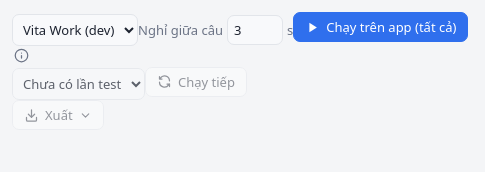
Test: AppRunPanel › does not save an invalid or unchanged pause
The width and height of the screenshot is (485, 172).
Later steps or results of the test are not shown.
Replace the text in the number field named "Nghỉ giữa các câu (giây)" with "-1" at (255, 30), box [227,15,283,45]
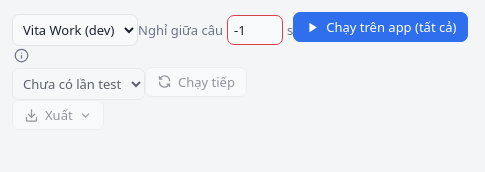
Check: the number field named "Nghỉ giữa các câu (giây)" is marked as invalid, box [227,15,283,45]
